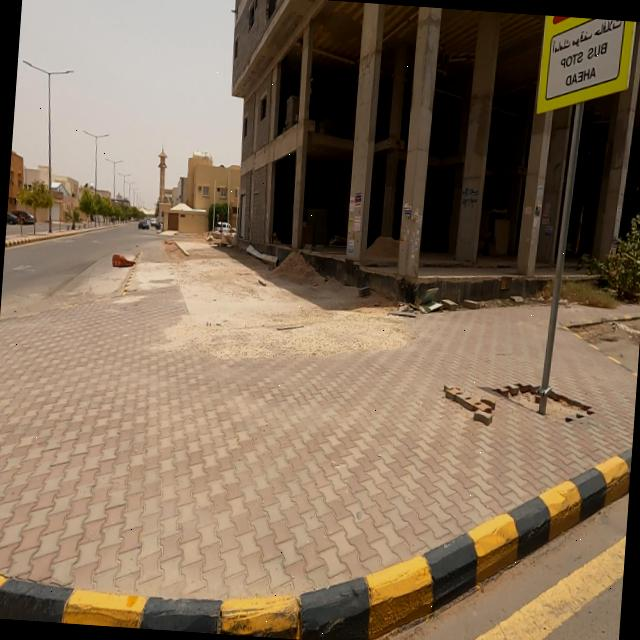Graffiti: (461, 185, 480, 208)
